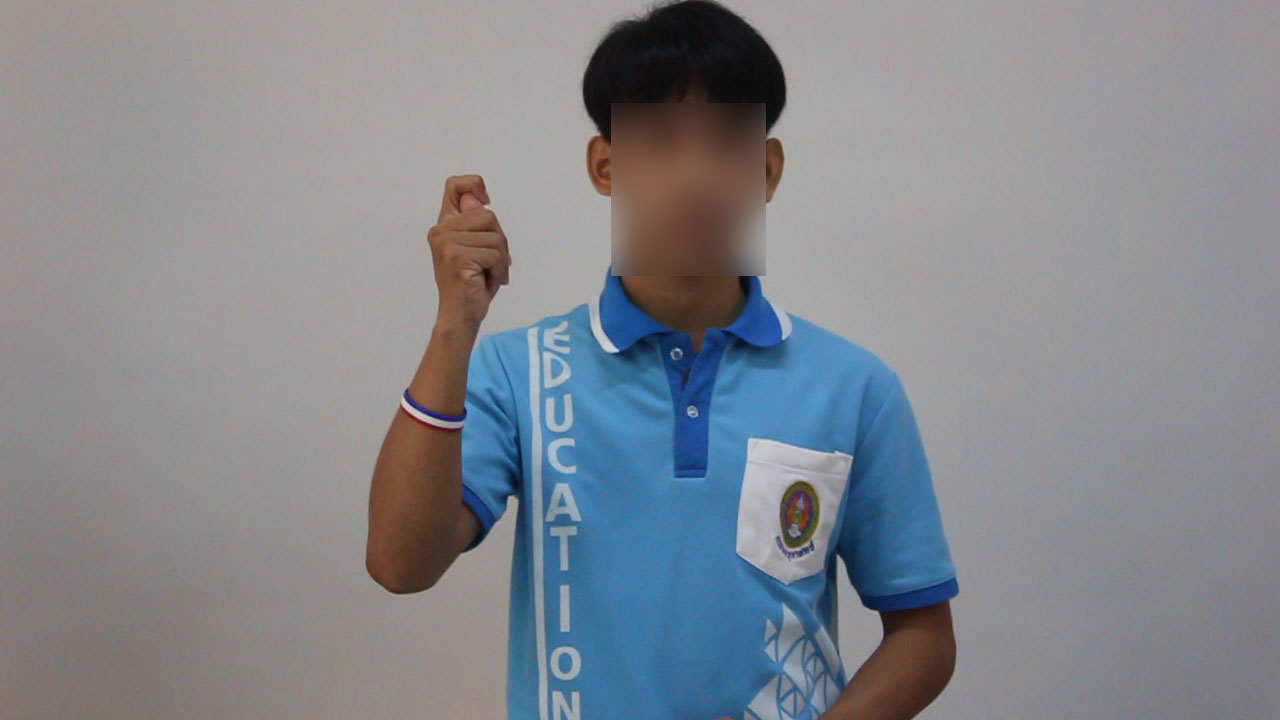or: (418, 170, 518, 332)
